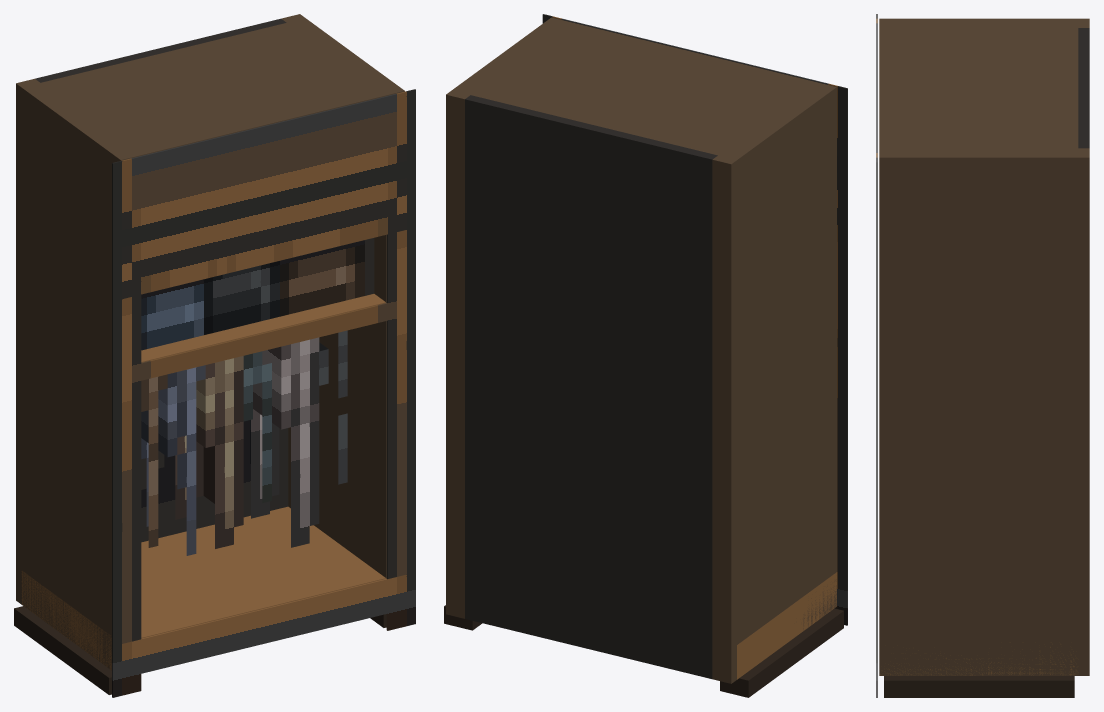
The model's file is CMU3DCivilianClothingWardrobe.glb.
3 renders of one model, left to right at view 1: azimuth 30°, elevation 25°; view 2: azimuth 150°, elevation 25°; view 3: azimuth 270°, elevation 25°, orthographic.
Parts seen in each view (by area): view 1: left wooden cabinet side, original header and upper rails, cabinet upper cap, cabinet bottom shelf, right wooden cabinet side, original bottom rail and feet, original left front rail, original right front rail, hanging garment 5, hanging garment 3, hanging garment 2, folded brown garments (+10 smaller); view 2: rear wooden cabinet wall, left wooden cabinet side, cabinet upper cap, right wooden cabinet side, original left front rail, cabinet bottom shelf, left foot, original header and upper rails; view 3: right wooden cabinet side, cabinet upper cap, right foot, rear wooden cabinet wall, left wooden cabinet side, original right front rail, original header and upper rails, cabinet bottom shelf.
Boxes of the visible parts, x1,y1,x2,y2 form: left wooden cabinet side: (16, 78, 139, 670); original header and upper rails: (112, 89, 415, 301); cabinet upper cap: (22, 19, 404, 221); cabinet bottom shelf: (21, 506, 386, 670); right wooden cabinet side: (281, 14, 404, 578); original bottom rail and feet: (112, 572, 415, 697); original left front rail: (112, 294, 141, 645); original right front rail: (386, 227, 415, 579); hanging garment 5: (251, 337, 328, 547); hanging garment 3: (175, 356, 243, 548); hanging garment 2: (141, 365, 205, 555); folded brown garments: (289, 238, 374, 314); rear wooden cabinet wall: (465, 95, 717, 678); left wooden cabinet side: (712, 83, 836, 683); cabinet upper cap: (453, 18, 836, 228); right wooden cabinet side: (446, 17, 567, 618); original left front rail: (837, 225, 847, 573); cabinet bottom shelf: (737, 572, 836, 679); left foot: (720, 608, 843, 697); original header and upper rails: (542, 14, 847, 227); right wooden cabinet side: (879, 148, 1089, 675); cabinet upper cap: (879, 18, 1078, 226); right foot: (884, 676, 1074, 697); rear wooden cabinet wall: (1078, 28, 1089, 148); left wooden cabinet side: (879, 18, 1089, 27); original right front rail: (876, 300, 877, 645); original header and upper rails: (876, 14, 877, 300); cabinet bottom shelf: (879, 642, 1078, 675).
Size of the model in its own units: 0.92 by 1.55 by 0.56.
Materials: 19 (15 with a texture image).
